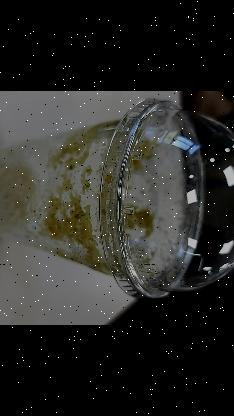Others: (0, 97, 234, 301), (95, 97, 234, 303)
